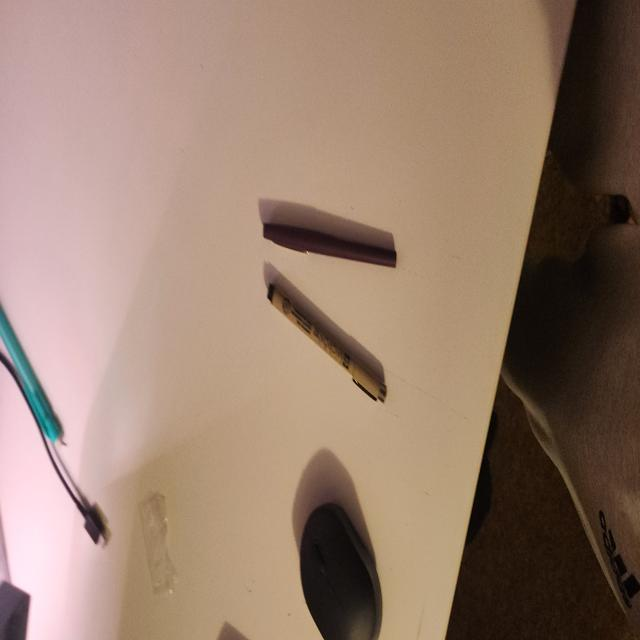Pen: (263, 265, 387, 403), (251, 197, 397, 272)
